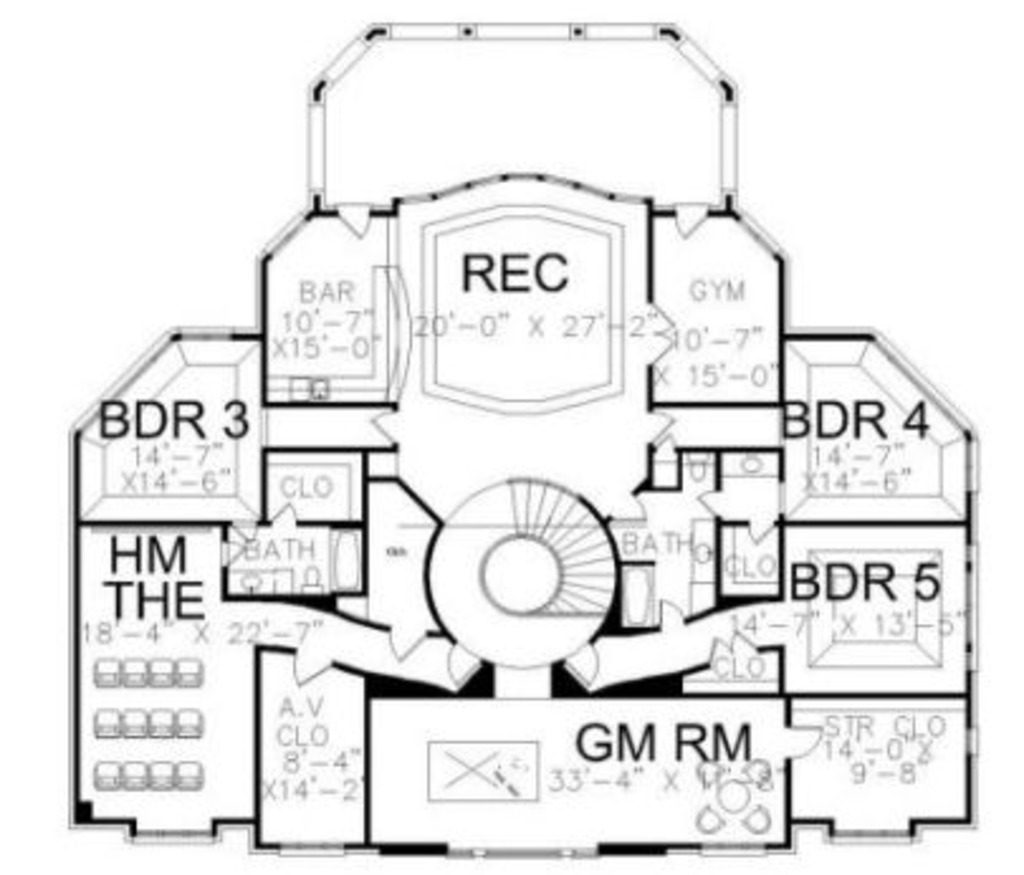door: (644, 302, 676, 365), (381, 622, 430, 662), (784, 720, 828, 763), (443, 641, 481, 688), (706, 631, 764, 661), (291, 649, 332, 690), (673, 204, 715, 243), (567, 645, 603, 689), (334, 202, 373, 242), (367, 405, 403, 444), (644, 407, 677, 446), (653, 598, 690, 630), (691, 486, 723, 521), (745, 518, 778, 544), (271, 500, 297, 530)
stairs: (504, 473, 619, 624)
tub: (325, 528, 367, 599), (619, 566, 659, 632)
